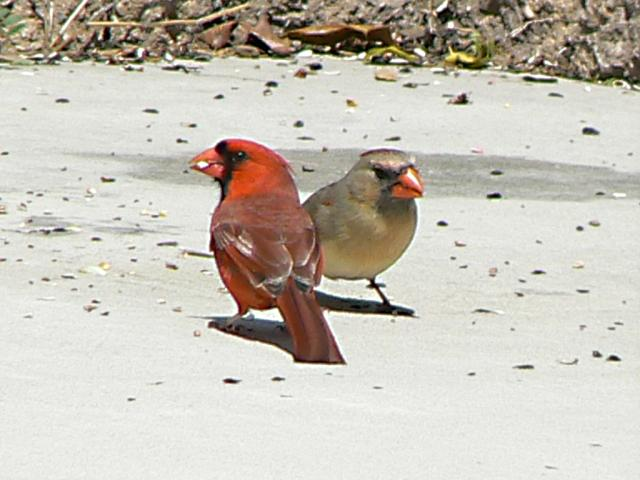Bird: (202, 146, 348, 359), (301, 148, 428, 320)
